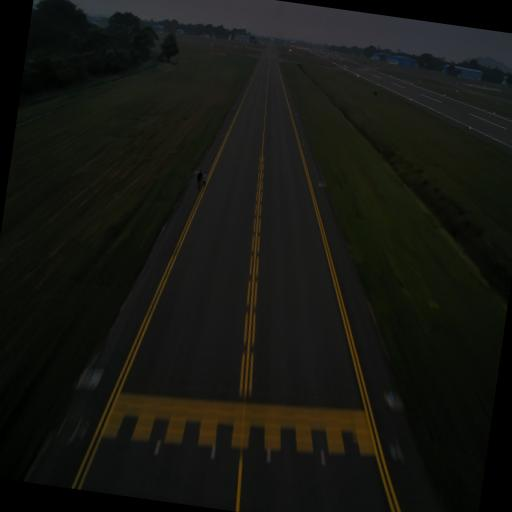off: (316, 447, 330, 474), (151, 434, 163, 461), (263, 445, 274, 464), (209, 442, 219, 462)
on: (386, 387, 398, 408), (89, 365, 100, 382), (198, 167, 202, 172), (320, 180, 322, 185)
